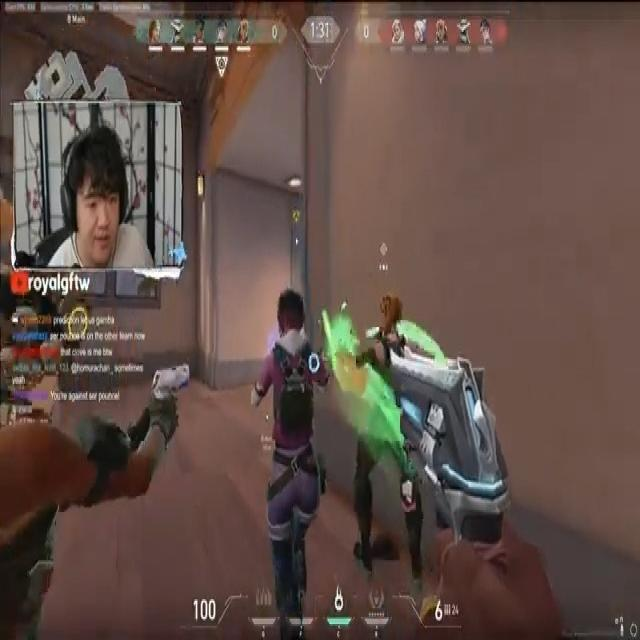ally: (249, 292, 341, 631)
